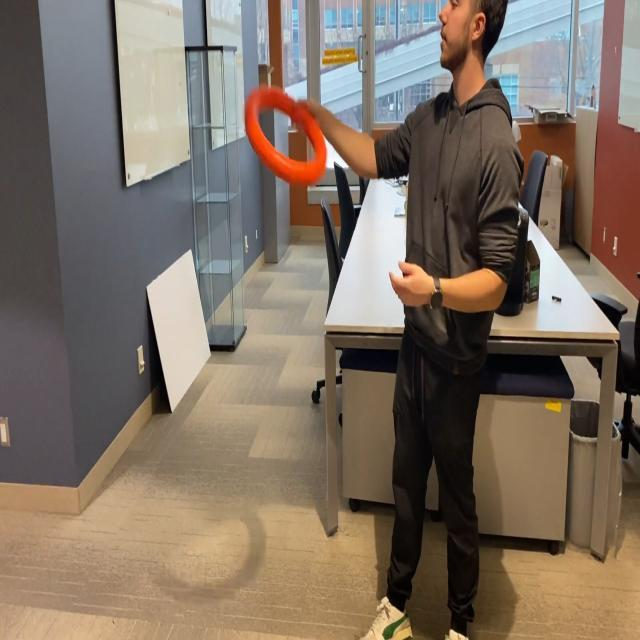note: (242, 82, 328, 191)
